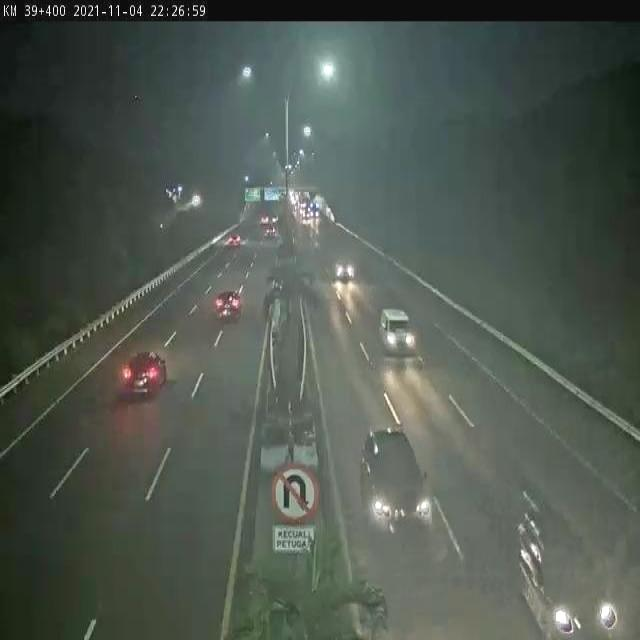Car: (358, 422, 433, 554), (118, 336, 172, 414), (322, 250, 362, 300), (215, 275, 248, 335), (218, 220, 244, 254)
Truck: (521, 476, 640, 640)
Van: (373, 294, 422, 367)
